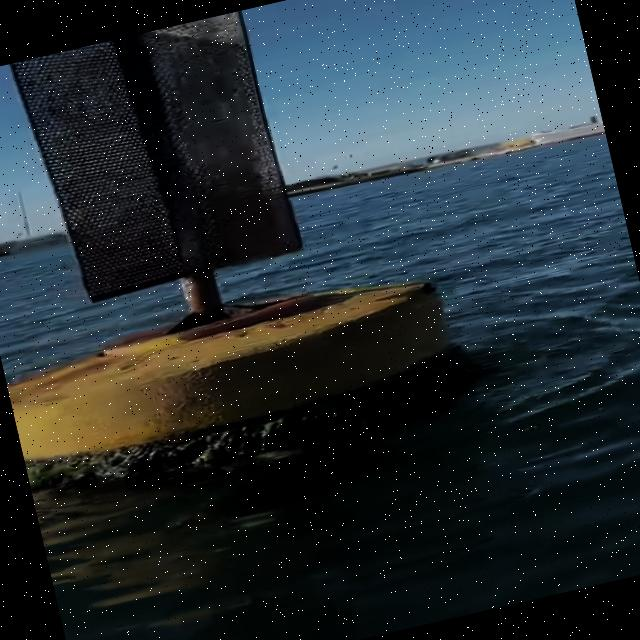marque: (1, 1, 497, 513)
